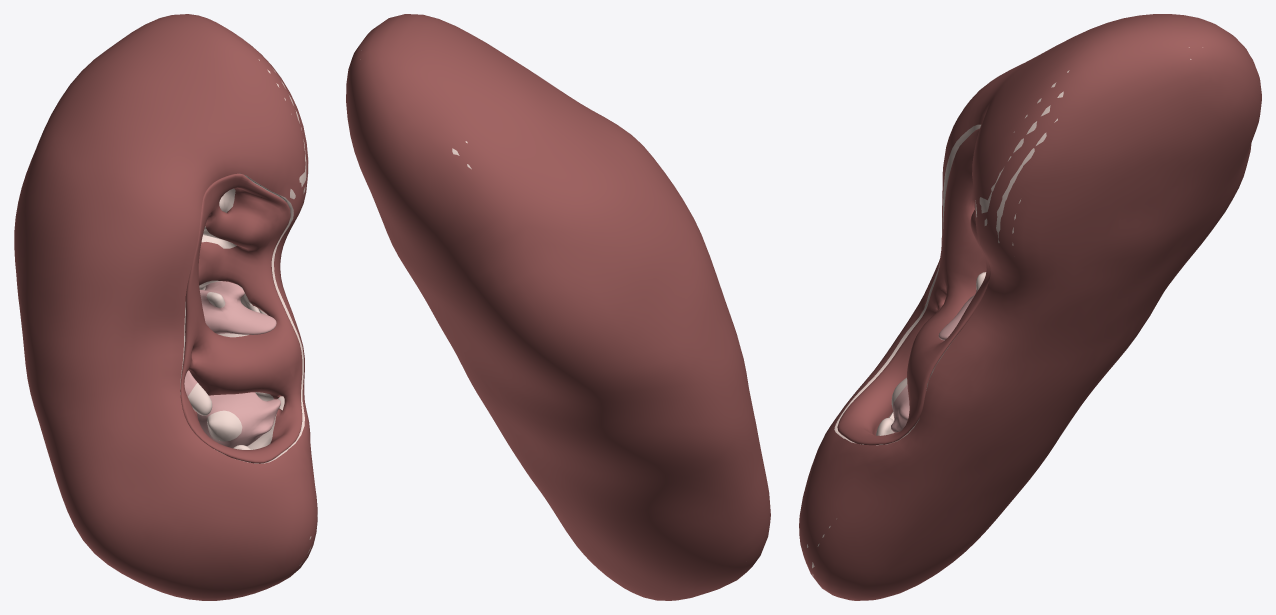
The model's file is kidney_r.glb.
3 views of the same model, side by side, from view 1: azimuth 30°, elevation 25°; view 2: azimuth 150°, elevation 25°; view 3: azimuth 270°, elevation 25° (orthographic). The views are drawn at different scales.
Parts seen in each view (by area): view 1: VH_M_kidney_capsule_R, VH_M_renal_pyramid_a, VH_M_renal_papilla_R_j; view 2: VH_M_kidney_capsule_R; view 3: VH_M_kidney_capsule_R, VH_M_renal_papilla_R_j, VH_M_renal_pyramid_a.
Part boxes in pixels (x1,y1,x2,y2): VH_M_kidney_capsule_R: [14, 14, 317, 600]; VH_M_renal_pyramid_a: [184, 281, 280, 448]; VH_M_renal_papilla_R_j: [89, 59, 317, 565]; VH_M_kidney_capsule_R: [346, 14, 770, 600]; VH_M_kidney_capsule_R: [799, 14, 1261, 600]; VH_M_renal_papilla_R_j: [807, 47, 1202, 576]; VH_M_renal_pyramid_a: [891, 289, 978, 432].
Size of the model in its own units: 0.0655 by 0.1125 by 0.0764.
